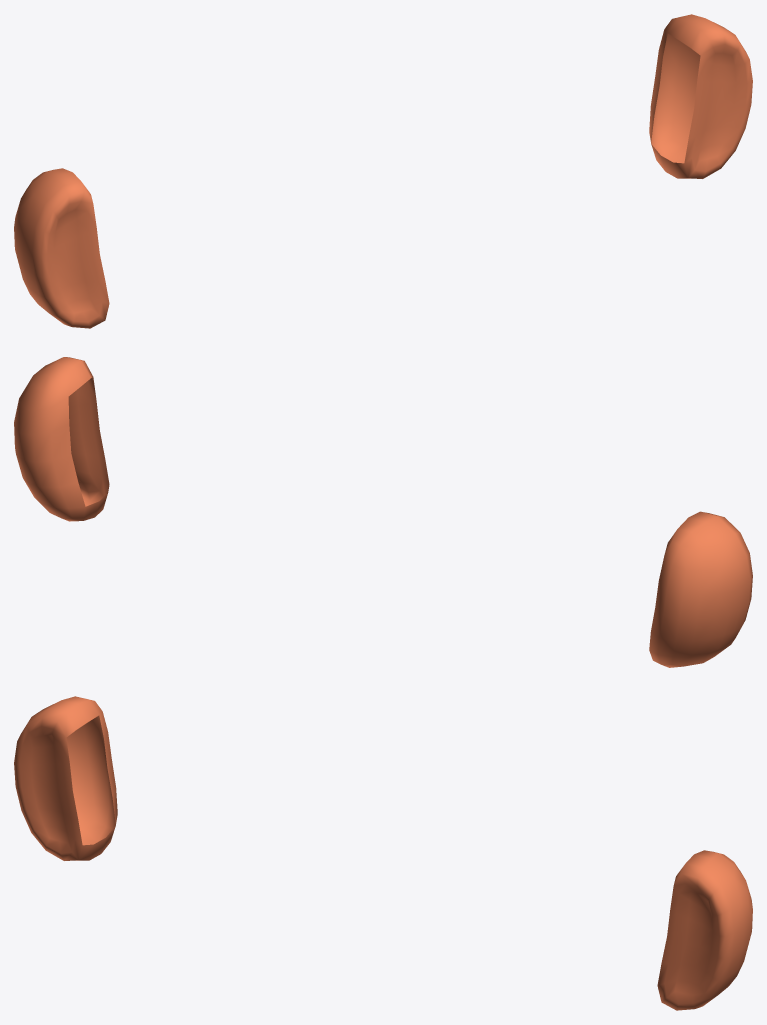
The model's file is Ears_11.glb.
3 renders of one model, top to bottom at view 1: azimuth 30°, elevation 25°; view 2: azimuth 150°, elevation 25°; view 3: azimuth 330°, elevation 25°, orthographic.
Visible parts, largest first — view 1: Ears_11; view 2: Ears_11; view 3: Ears_11.
Boxes of the visible parts, x1,y1,x2,y2 form: Ears_11: (14, 14, 752, 328); Ears_11: (14, 357, 752, 667); Ears_11: (14, 696, 752, 1010).
Size of the model in its own units: 0.6554 by 0.1295 by 0.076.
1 material, 1 textured.
